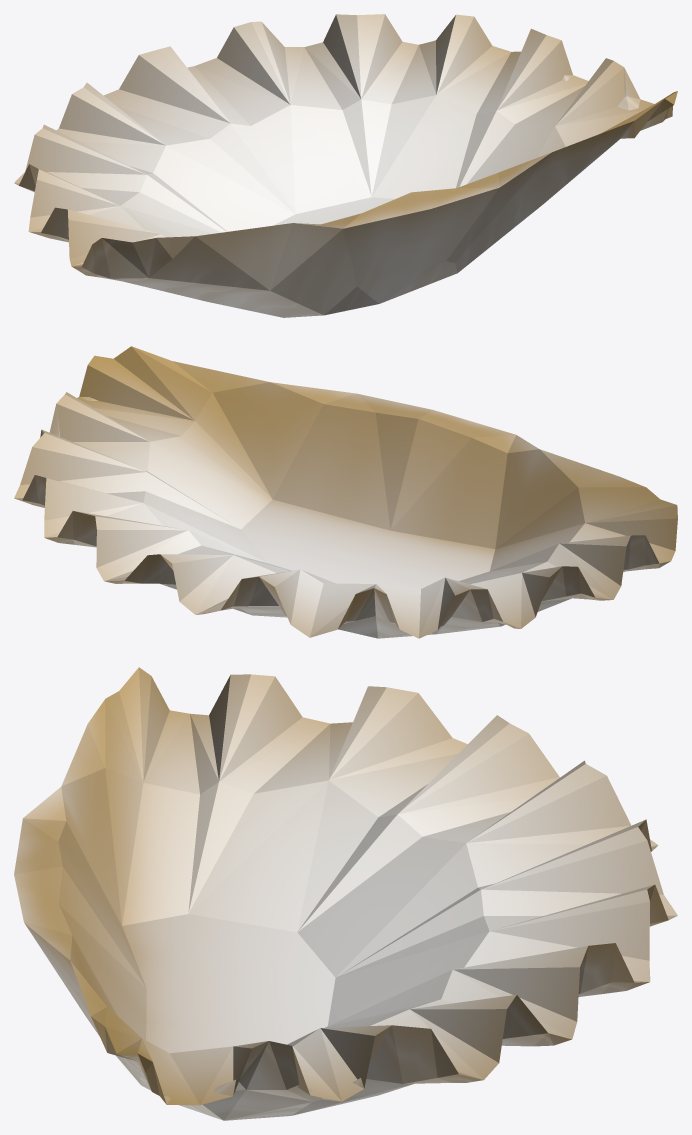
File: shell_bowl.fbx
3 renders of one model, top to bottom at view 1: azimuth 30°, elevation 25°; view 2: azimuth 150°, elevation 25°; view 3: azimuth 270°, elevation 25°, orthographic. The views are drawn at different scales.
Visible parts, largest first — view 1: Shell; view 2: Shell; view 3: Shell.
Boxes of the visible parts, x1,y1,x2,y2 form: Shell: (14,14,677,317); Shell: (14,346,677,638); Shell: (14,667,677,1120).
Size of the model in its own units: 40.25 by 9.78 by 27.65.
